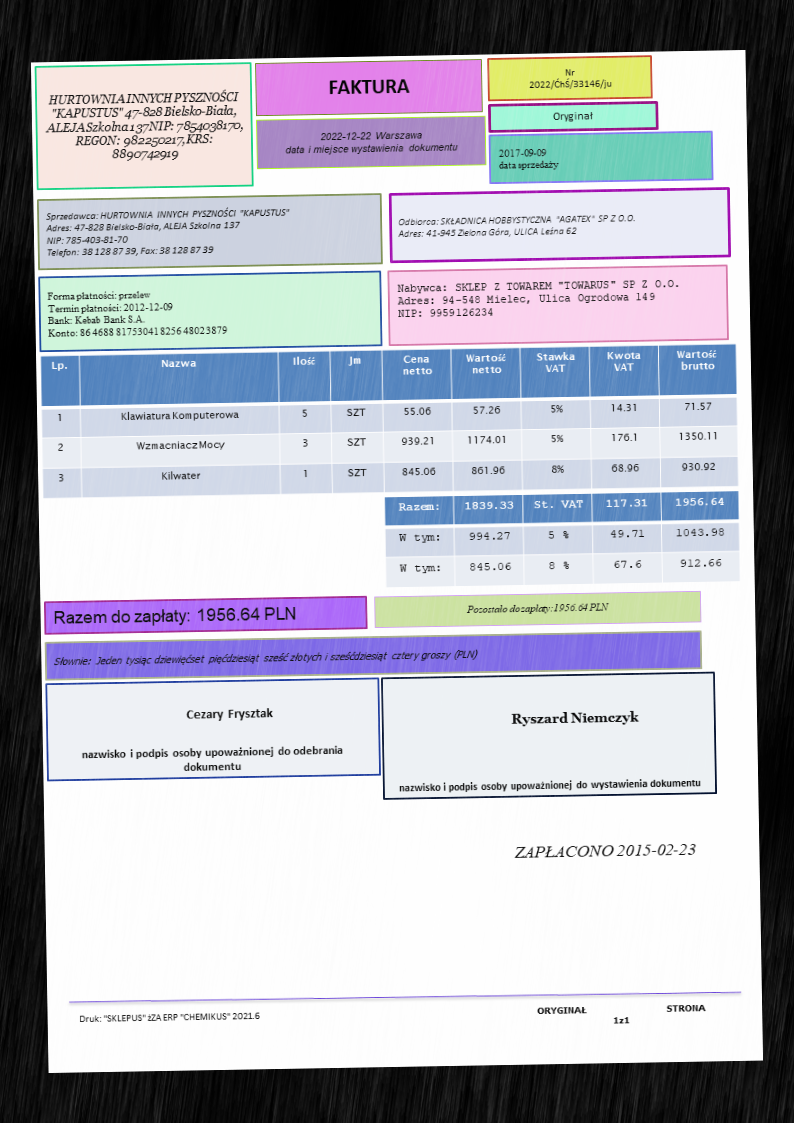Table: (39, 342, 740, 500), (383, 490, 742, 588)
TextBox: (43, 88, 247, 165), (43, 206, 293, 260), (395, 276, 683, 320), (52, 647, 480, 670), (46, 286, 230, 339), (78, 743, 346, 774), (395, 209, 637, 240), (396, 775, 703, 796), (51, 603, 297, 629), (284, 128, 460, 157), (533, 1001, 708, 1029), (512, 840, 698, 861), (77, 1010, 262, 1026), (510, 707, 640, 727), (464, 600, 611, 616), (527, 66, 614, 93), (326, 76, 411, 98), (496, 145, 559, 172), (185, 705, 275, 722), (551, 108, 595, 124)
